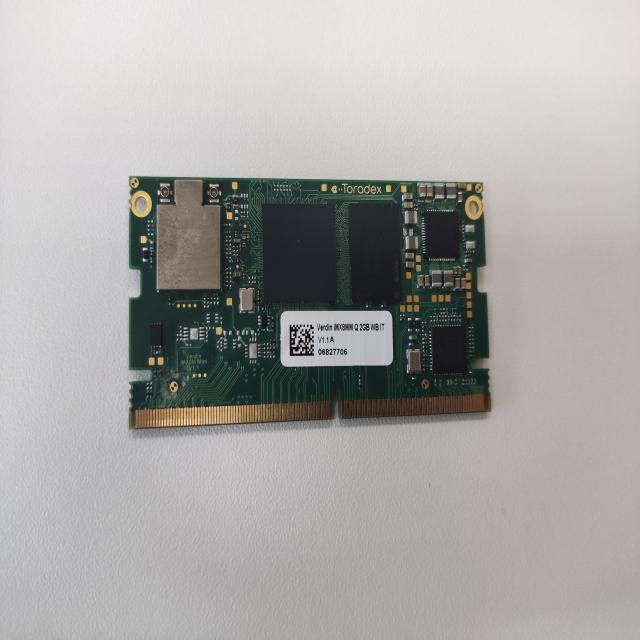som: (116, 159, 510, 436)
